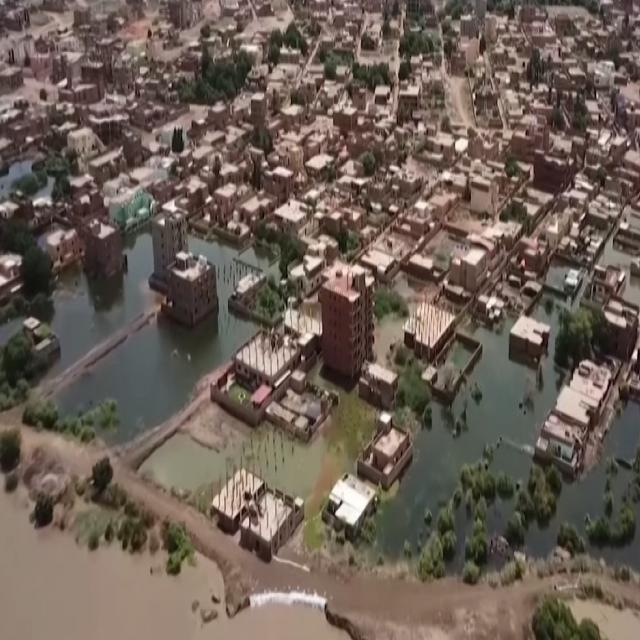flood: (344, 292, 571, 570), (0, 478, 350, 640), (56, 235, 258, 443), (140, 396, 375, 516), (526, 402, 640, 556), (51, 232, 160, 374), (589, 503, 640, 570)
house: (538, 355, 622, 478), (318, 272, 374, 374), (236, 322, 300, 394), (210, 466, 267, 546), (404, 286, 457, 364), (160, 251, 214, 327), (356, 420, 415, 488), (324, 472, 382, 540), (84, 216, 125, 292), (149, 212, 190, 278), (508, 308, 554, 366), (39, 219, 83, 278), (360, 352, 399, 414), (1, 247, 26, 314)
